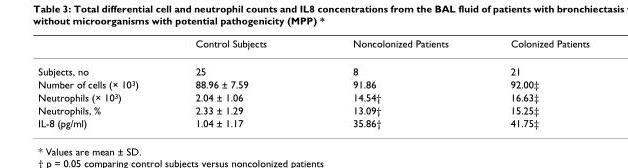table: (37, 37, 589, 128)
table column: (309, 37, 478, 128), (166, 37, 309, 128), (37, 37, 166, 128), (478, 37, 589, 128)
table column header: (37, 37, 589, 57)
table row: (37, 37, 589, 57), (37, 57, 589, 77), (37, 77, 589, 90), (37, 90, 589, 103), (37, 103, 589, 116), (37, 116, 589, 128)
